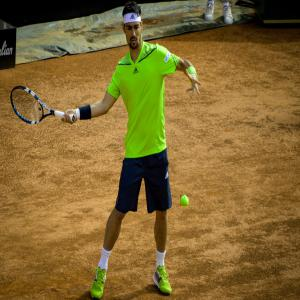TennisBall: (181, 196, 190, 208)
